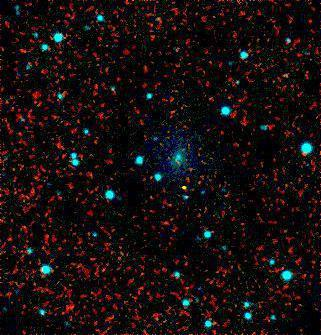star: (167, 174, 197, 204)
